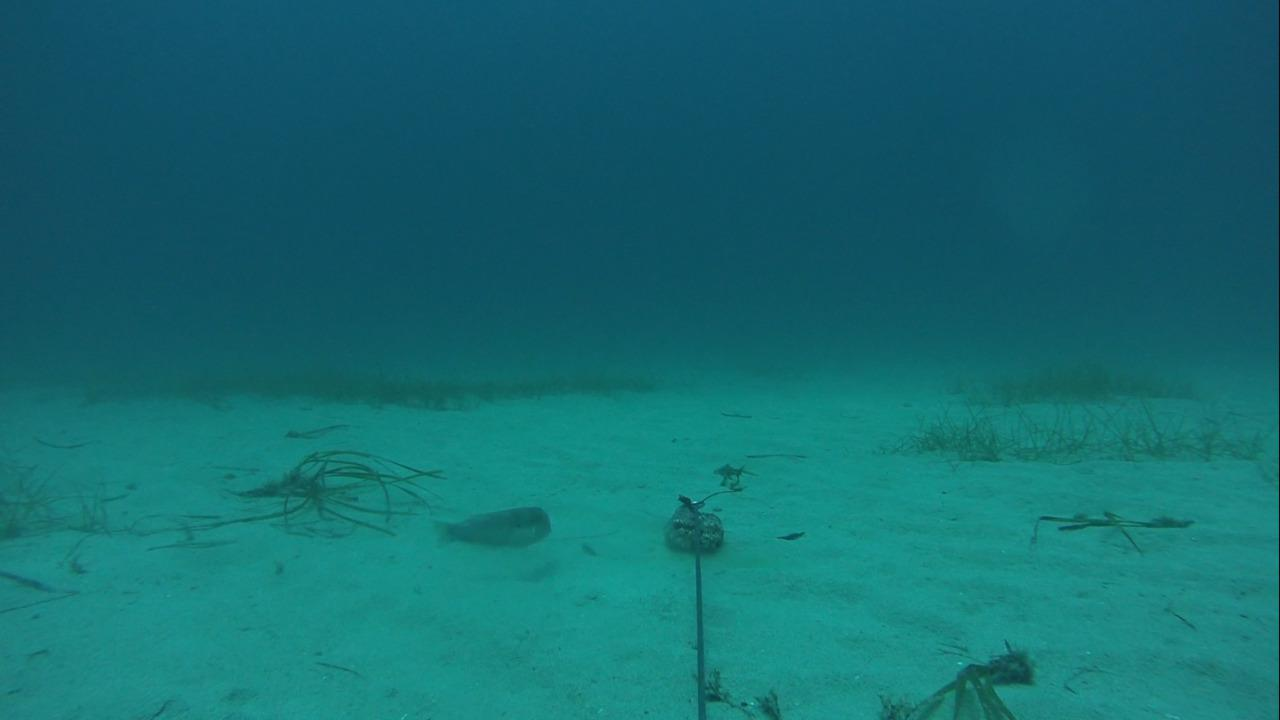raor: (430, 503, 559, 554)
